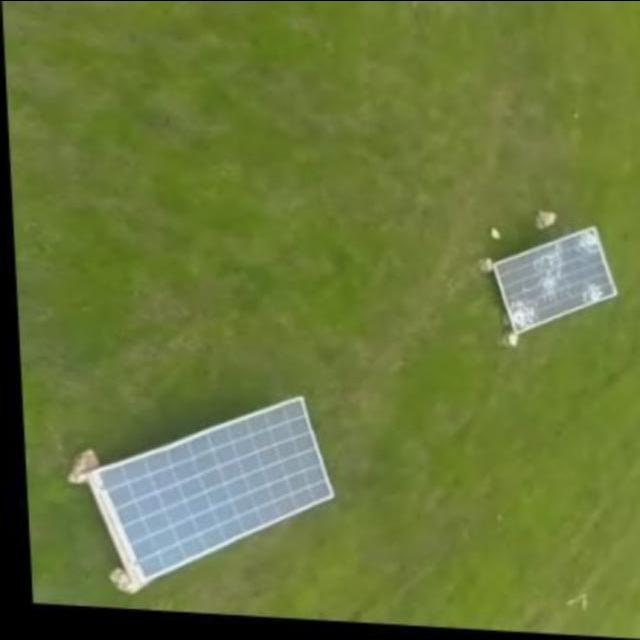cracked: (492, 224, 620, 334)
